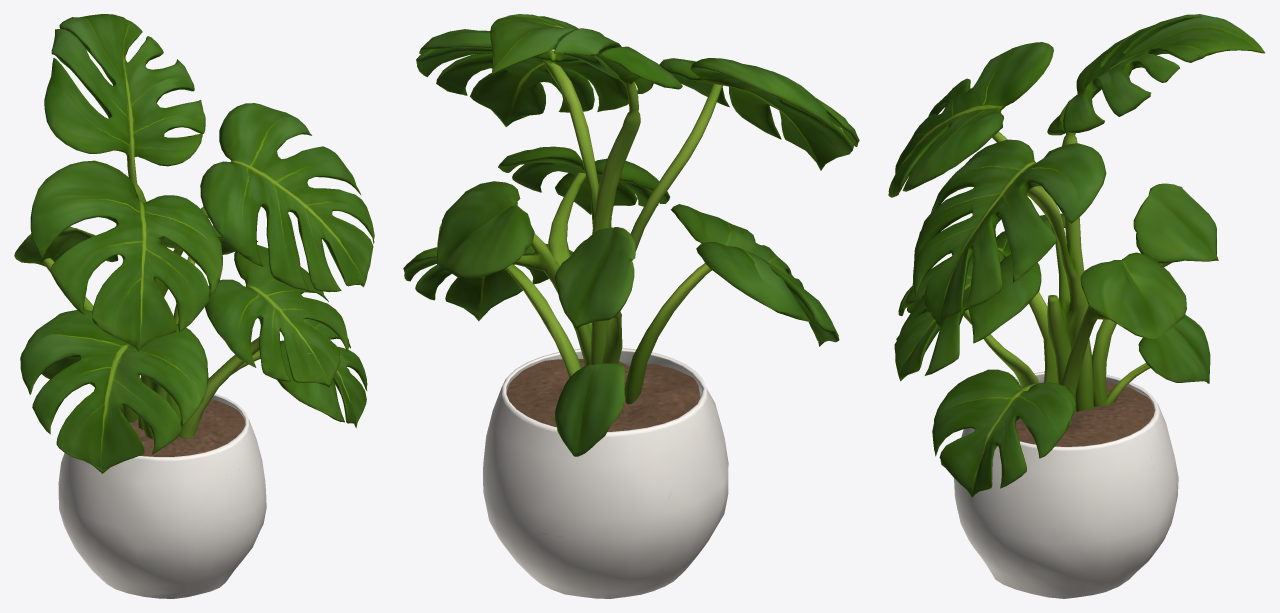
The model's file is PottedMonsteraPlant.glb.
3 views of the same model, side by side, from view 1: azimuth 30°, elevation 25°; view 2: azimuth 150°, elevation 25°; view 3: azimuth 270°, elevation 25° (orthographic). The views are drawn at different scales.
Parts seen in each view (by area): view 1: geometry_0; view 2: geometry_0; view 3: geometry_0.
Part boxes in pixels (<box>): geometry_0: <box>14,14,374,598</box>; geometry_0: <box>403,14,859,598</box>; geometry_0: <box>888,14,1264,598</box>.
Size of the model in its own units: 0.6694 by 0.9512 by 0.604.
Materials: 1 (1 with a texture image).
